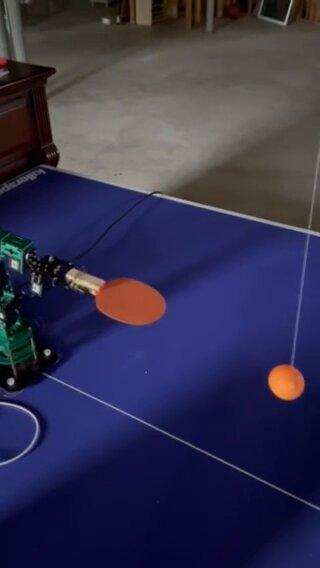oball: (267, 363, 304, 400)
